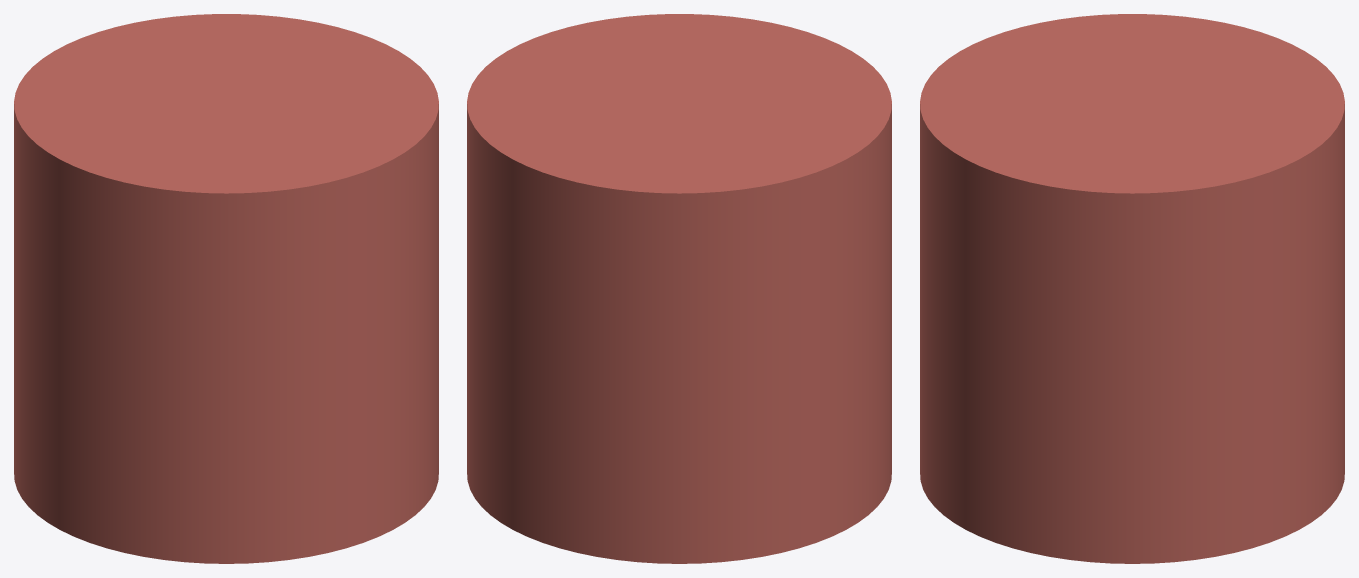
The model's file is step_02.glb.
The picture shows the model from 3 angles, left to right: view 1: azimuth 30°, elevation 25°; view 2: azimuth 150°, elevation 25°; view 3: azimuth 270°, elevation 25°; orthographic projection.
Parts seen in each view (by area): view 1: part__lantern lens; view 2: part__lantern lens; view 3: part__lantern lens.
Boxes of the visible parts, left/top/right/bottom form: part__lantern lens: left=14, top=14, right=438, bottom=563; part__lantern lens: left=467, top=14, right=891, bottom=563; part__lantern lens: left=920, top=14, right=1344, bottom=563.
Size of the model in its own units: 104 by 100 by 104.
